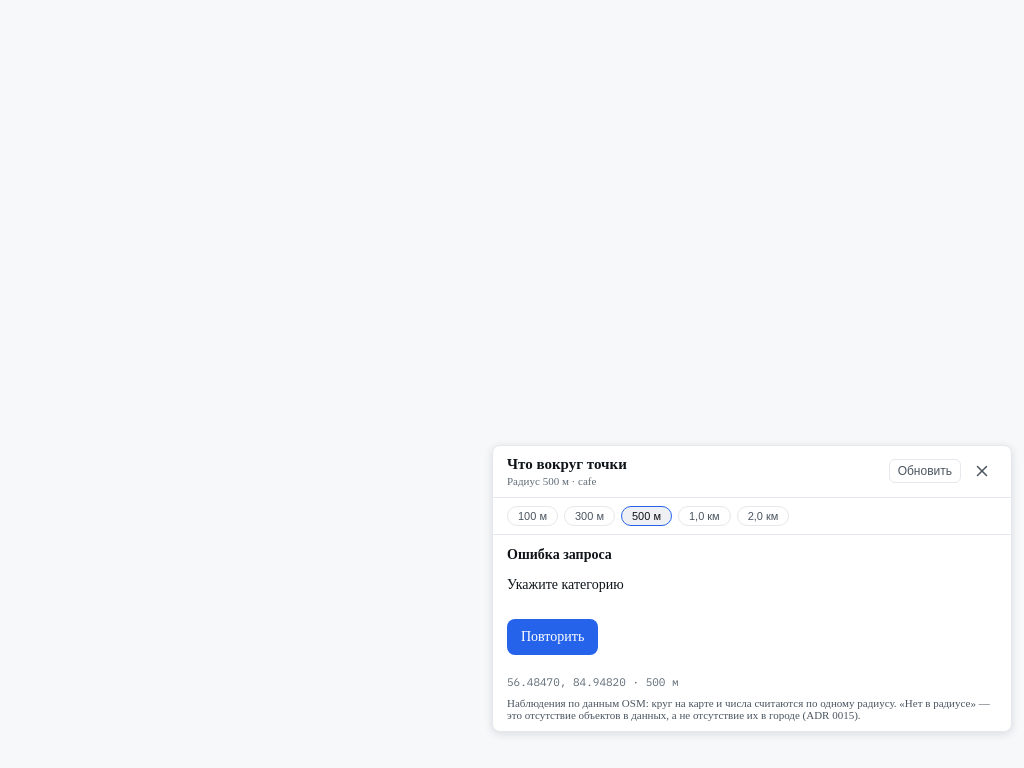
Test: AroundPanel › показывает ошибку и умеет повторить
Expected: the element with test id "around-error" shows "Укажите категорию", [507,577,624,592]
Click the button "Повторить": {"x": 553, "y": 637} [507,619,598,655]
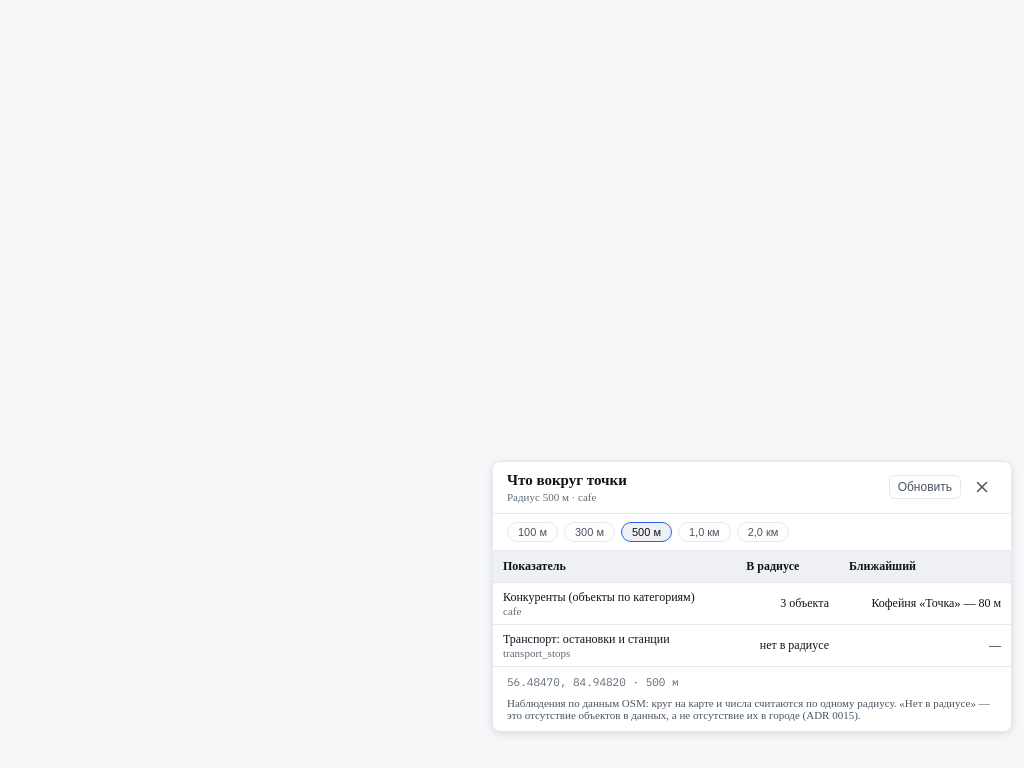
Expected: the table with test id "around-table" is shown, [493,551,1011,667]
